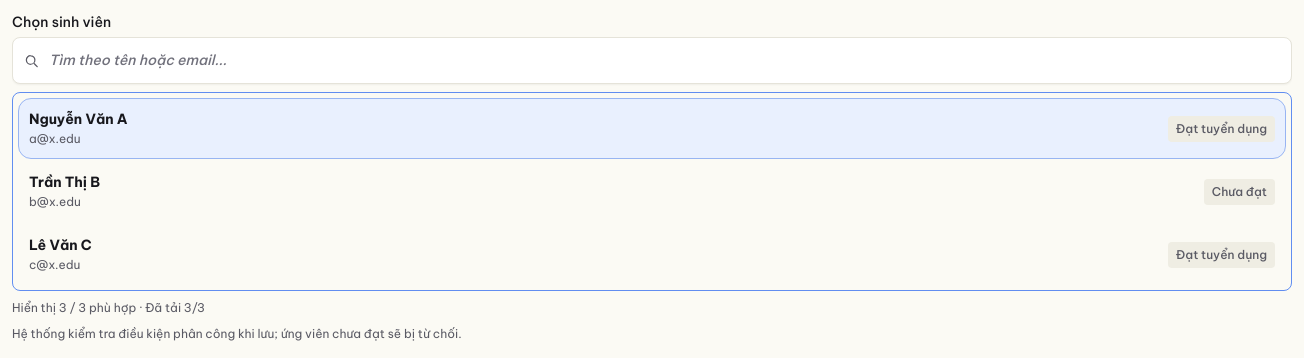
Test case: AssigneeSelector › loads the first page and filters by name without paging UI
Expected: the text "Nguyễn Văn A" is shown, [29,110,128,128]
Type "trần" into the dropdown named "Tìm theo tên hoặc email".
click(652, 60); type("trần")  # box [12,37,1292,84]
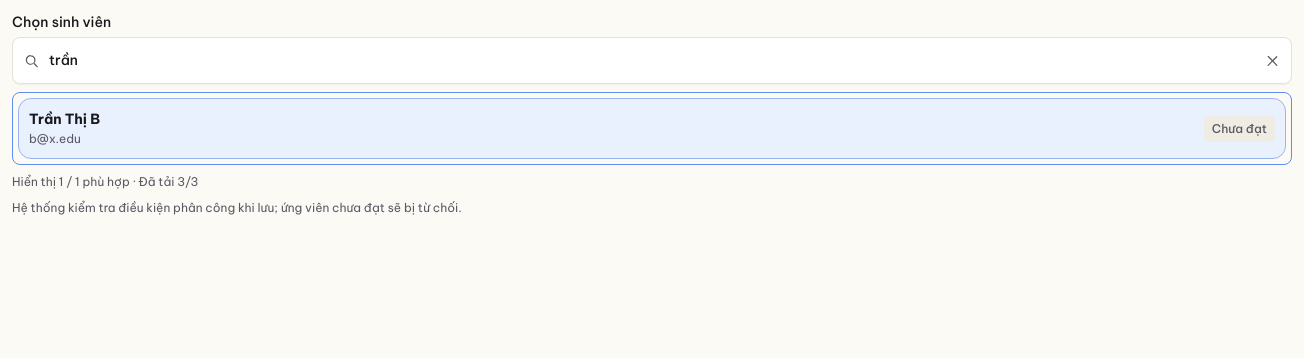
Expected: the text "Trần Thị B" is shown, [29,110,100,128]
Expected: the option "Nguyễn Văn A" is gone
